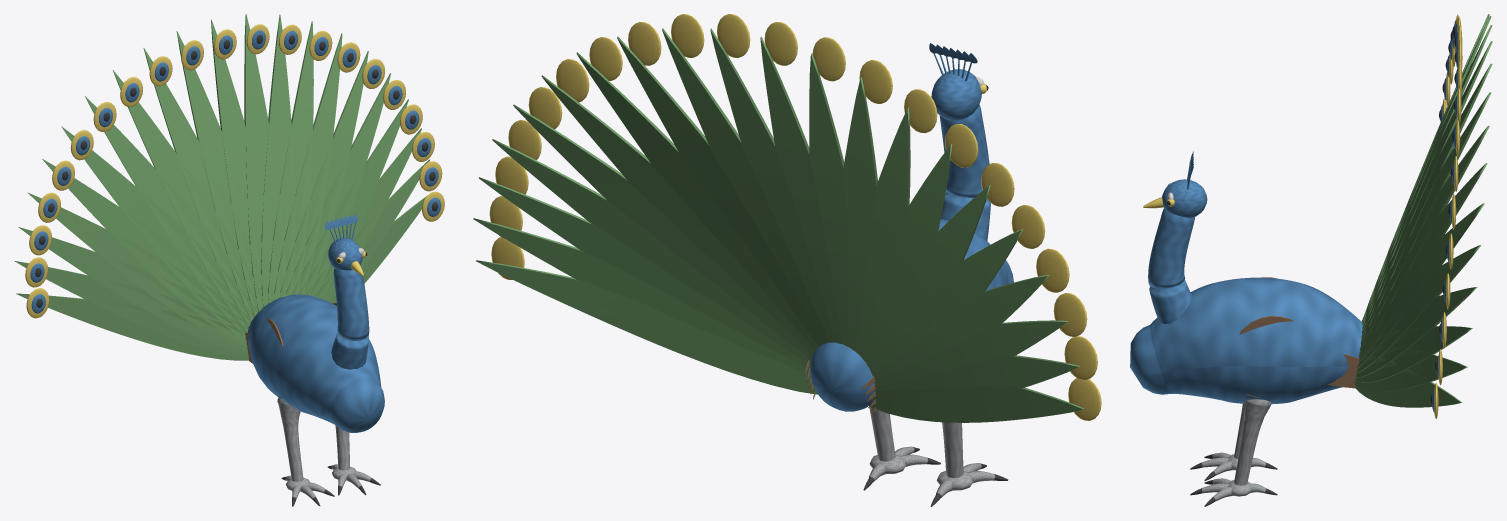
File: birds-and-reptiles-hd-indian-peacock-displayed-7fdb7c5a__28095.glb
3 renders of one model, left to right at view 1: azimuth 30°, elevation 25°; view 2: azimuth 150°, elevation 25°; view 3: azimuth 270°, elevation 25°, orthographic. The views are drawn at different scales.
Visible parts, largest first — view 1: indian-peacock-displayed; view 2: indian-peacock-displayed; view 3: indian-peacock-displayed.
Boxes of the visible parts, left/top/right/bottom form: indian-peacock-displayed: left=14, top=14, right=444, bottom=506; indian-peacock-displayed: left=473, top=14, right=1101, bottom=506; indian-peacock-displayed: left=1130, top=14, right=1492, bottom=506.
Bounding box in the file's own units: 1.82 × 1.6 × 1.19.
8 materials, 6 textured.
